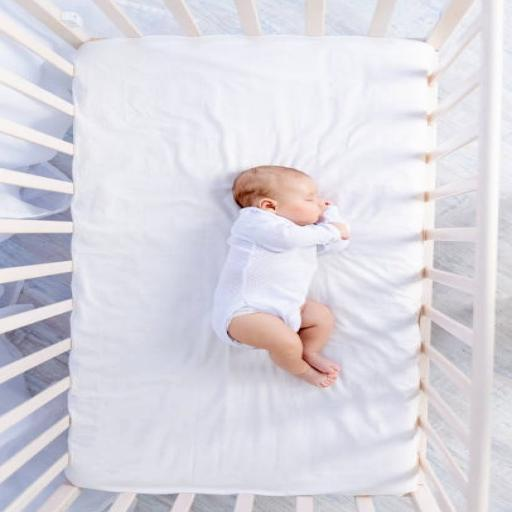baby: (214, 166, 349, 386)
crib: (403, 0, 501, 511)
